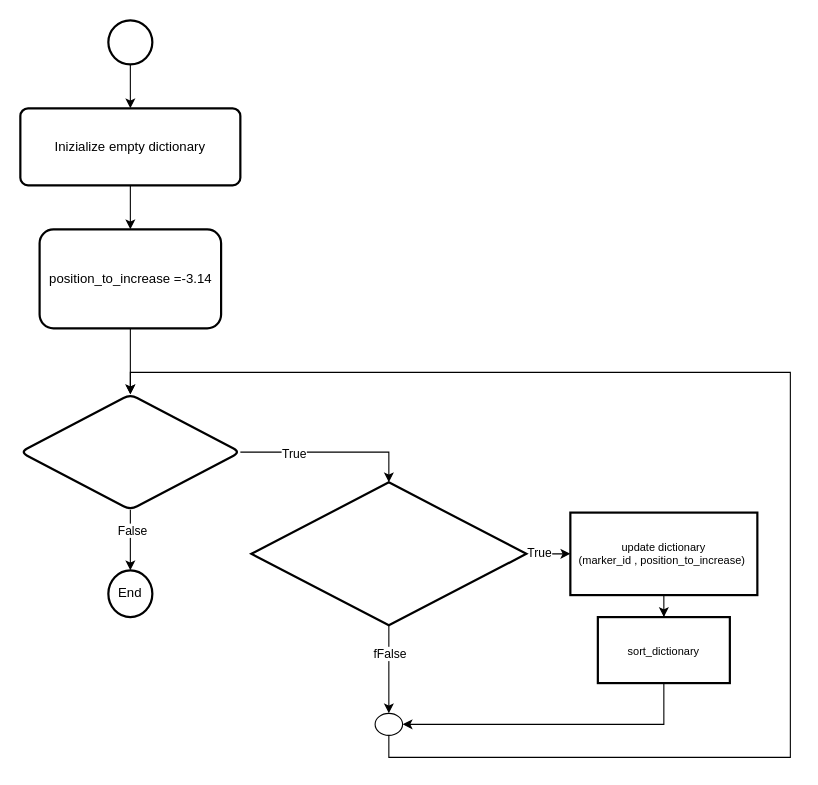
Image size: 818x785. Some labels were removed from this diagram. The shapes that lost their labels are listed below. From the top down, each one's centre as x and y in pixels, then its label:
At [130,451]: "position_to_increase <=-3.14".
At [388,553]: "center of the marker in the center of the image".
